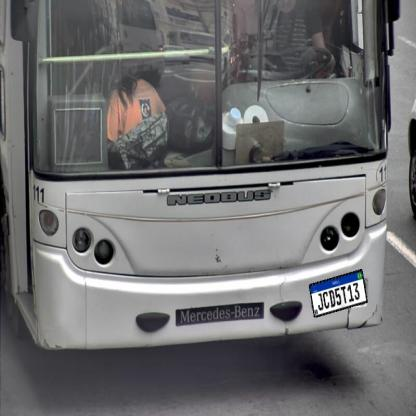PlacaM: (309, 269, 368, 318)
